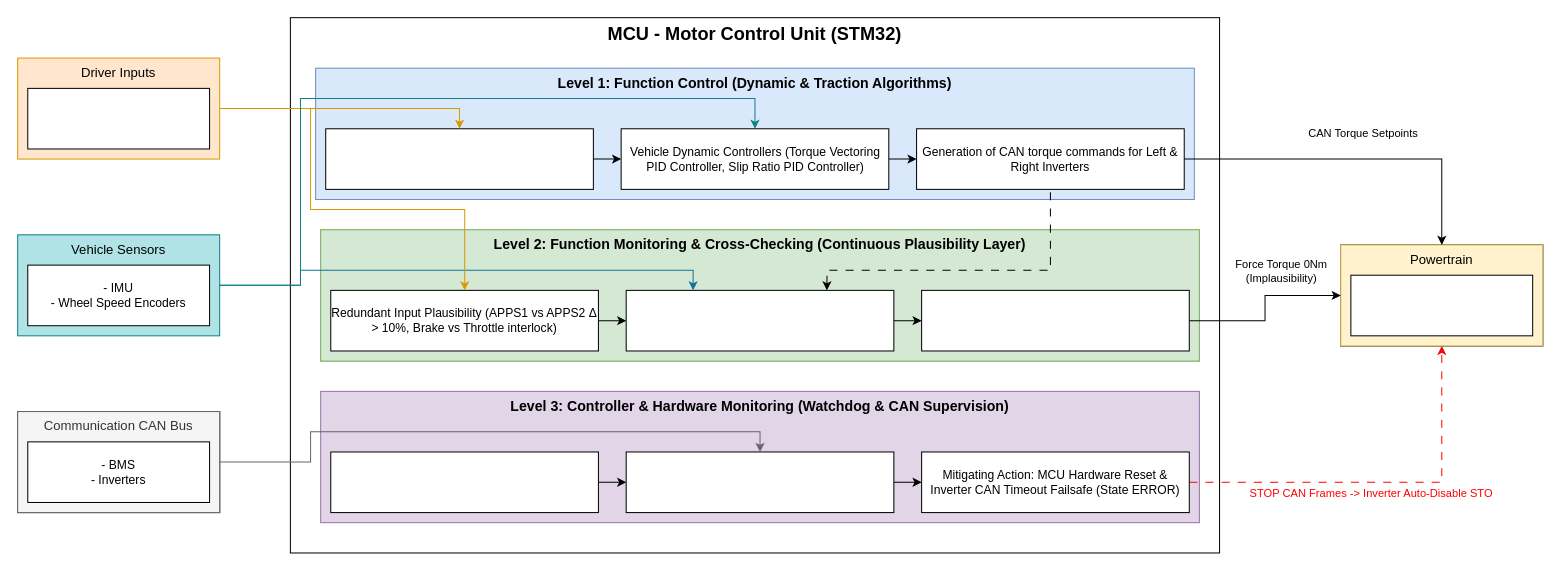
Image size: 1560x571. Some labels were removed from this diagram. Here are the shapes that lost their labels. From the top down, the centre of each, then its label:
(x=118, y=118): - APPs - Brake Pressure - Steering Angle
(x=459, y=158): Torque Demand Mapping (Throttle curve, MTFC derating, Regen blending)
(x=759, y=320): Kinematic & Torque Bounds Check (Target torque vs estimated tire grip envelope)
(x=1055, y=320): Mitigating Action: Software Torque Clamp to 0 Nm (Transition to IMPLAUSIBILITY)
(x=1441, y=305): Inverters & Motors
(x=464, y=482): RTOS Task Supervision & Hardware Watchdog (Deadline and liveness monitoring)
(x=759, y=482): Critical Communication Monitoring (CAN timeouts: Inverters, BMS, IMU,...)
